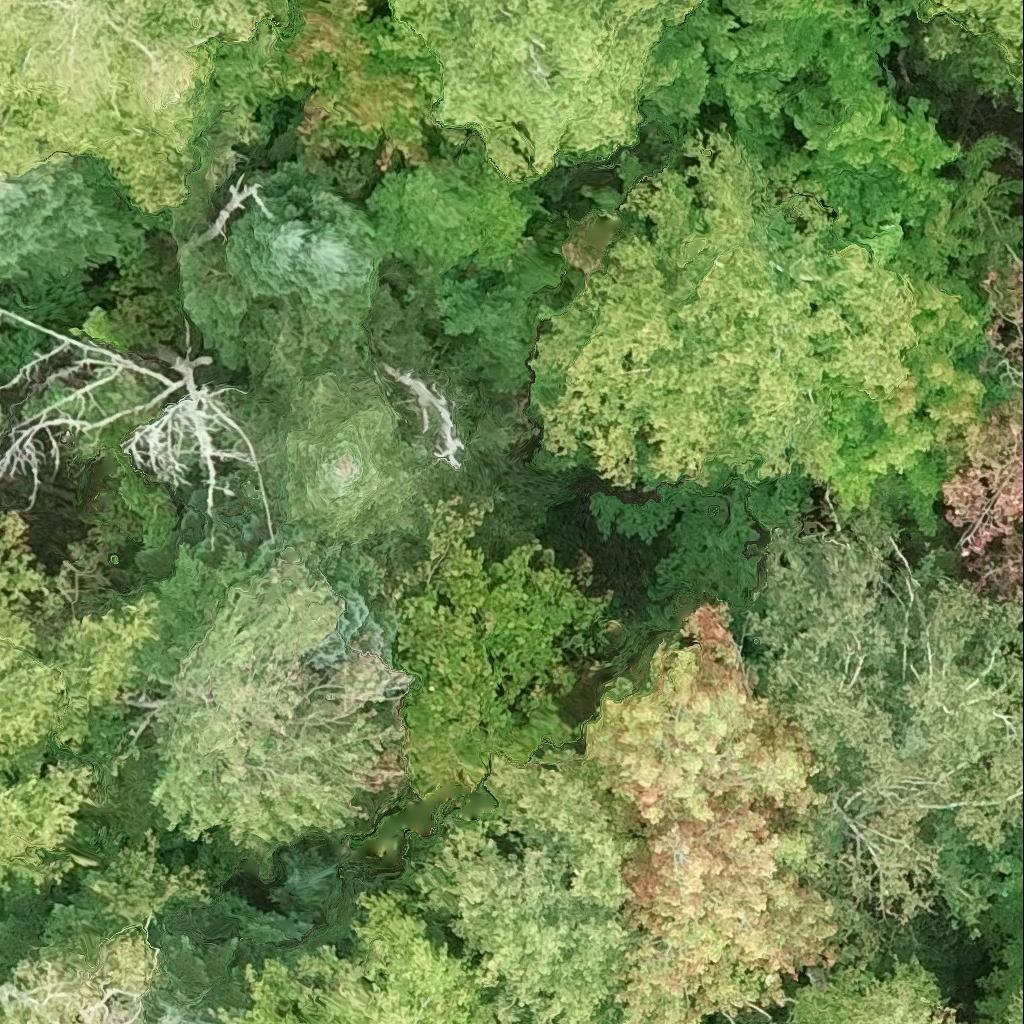crown: (526, 136, 914, 487), (739, 511, 1023, 923), (577, 599, 839, 1000), (814, 136, 1023, 541), (155, 548, 413, 853), (412, 734, 660, 1023), (0, 0, 301, 214), (393, 531, 616, 787), (385, 0, 687, 186), (0, 512, 156, 869), (175, 161, 384, 390), (213, 884, 504, 1023), (0, 305, 190, 511), (636, 0, 908, 137), (789, 74, 963, 260), (938, 262, 1023, 609), (273, 0, 442, 171), (118, 347, 271, 531), (277, 367, 430, 541), (366, 149, 545, 272), (252, 522, 399, 671), (0, 153, 141, 302), (133, 899, 293, 1023), (0, 936, 159, 1023), (904, 0, 1023, 108), (783, 952, 955, 1023), (127, 0, 302, 41), (600, 0, 708, 29), (1006, 988, 1023, 1023)
